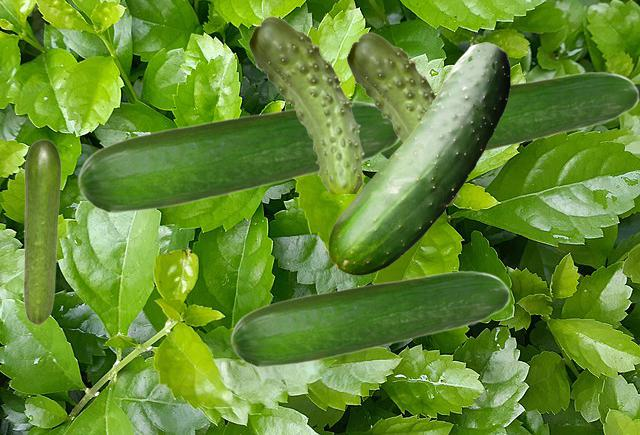cucumber: (328, 42, 509, 274), (77, 100, 400, 213), (230, 270, 509, 367), (380, 71, 638, 159), (248, 16, 364, 192), (346, 32, 459, 204), (23, 139, 60, 324)
